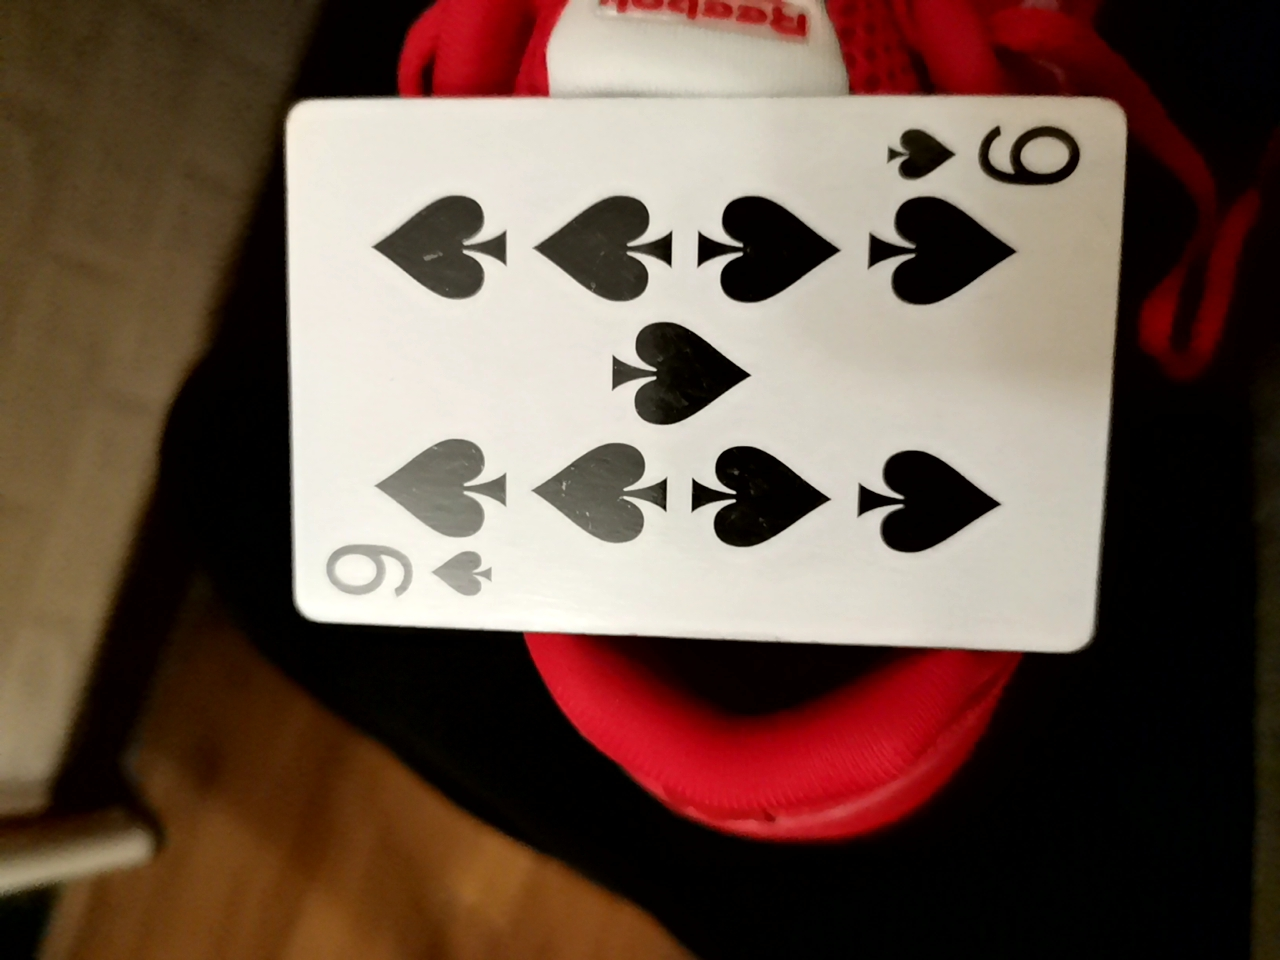ht 9: (291, 104, 1111, 656)
